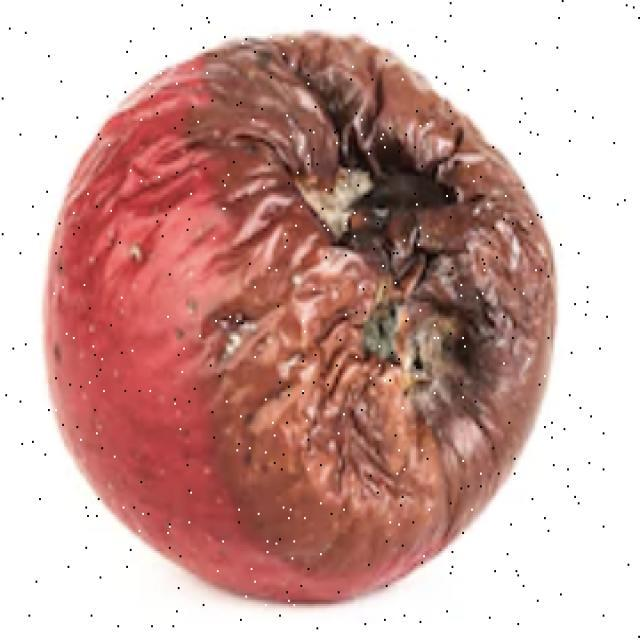Rotten: (59, 30, 554, 593)
